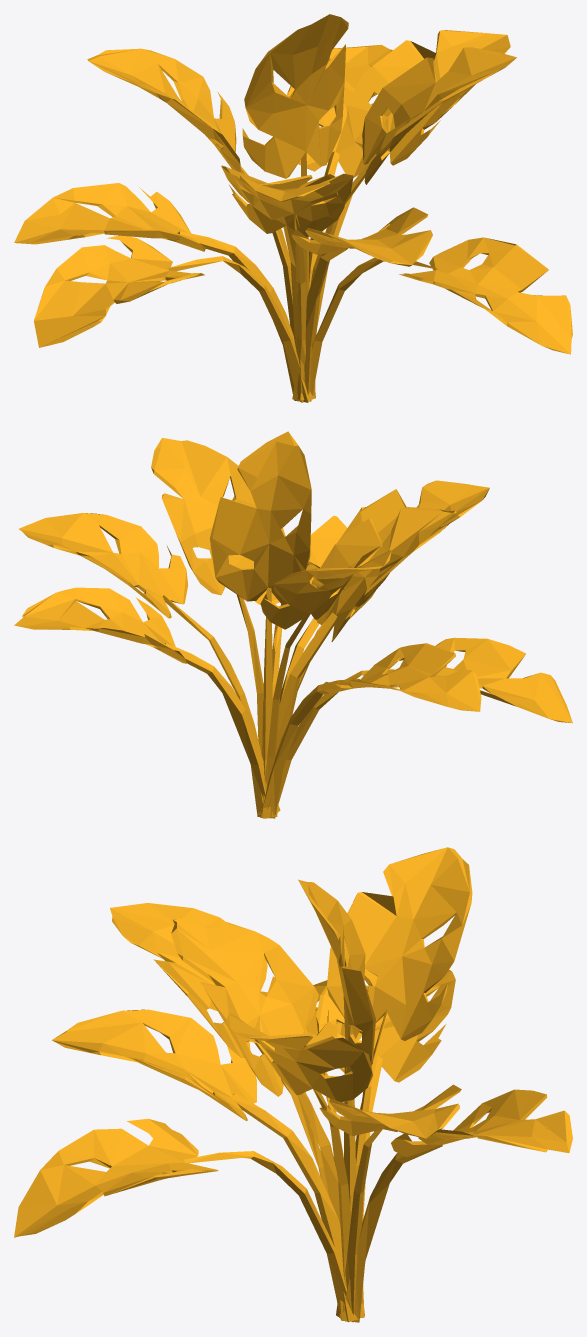
File: ShrubPalmTropical04.fbx
3 views of the same model, one above another, from view 1: azimuth 30°, elevation 25°; view 2: azimuth 150°, elevation 25°; view 3: azimuth 270°, elevation 25° (orthographic). The views are drawn at different scales.
Parts seen in each view (by area): view 1: ShrubPalmTropical04_LOD0; view 2: ShrubPalmTropical04_LOD0; view 3: ShrubPalmTropical04_LOD0.
Part boxes in pixels (box(x1,y1,x2,y2)): ShrubPalmTropical04_LOD0: box(14, 14, 572, 402); ShrubPalmTropical04_LOD0: box(14, 431, 572, 818); ShrubPalmTropical04_LOD0: box(14, 847, 572, 1322).
Size of what is drawn, in the model's own units: 168 by 120 by 138.
